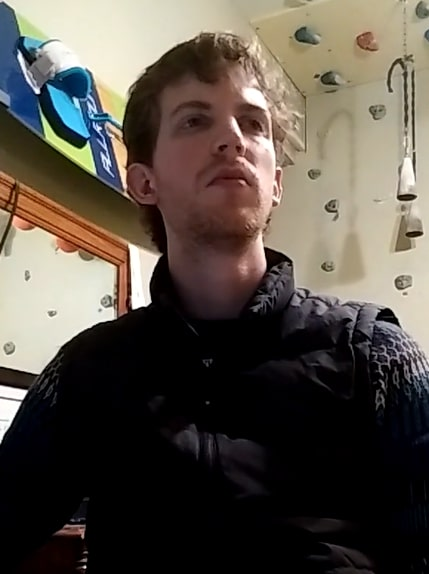Not Sleeping: (163, 102, 273, 144)
